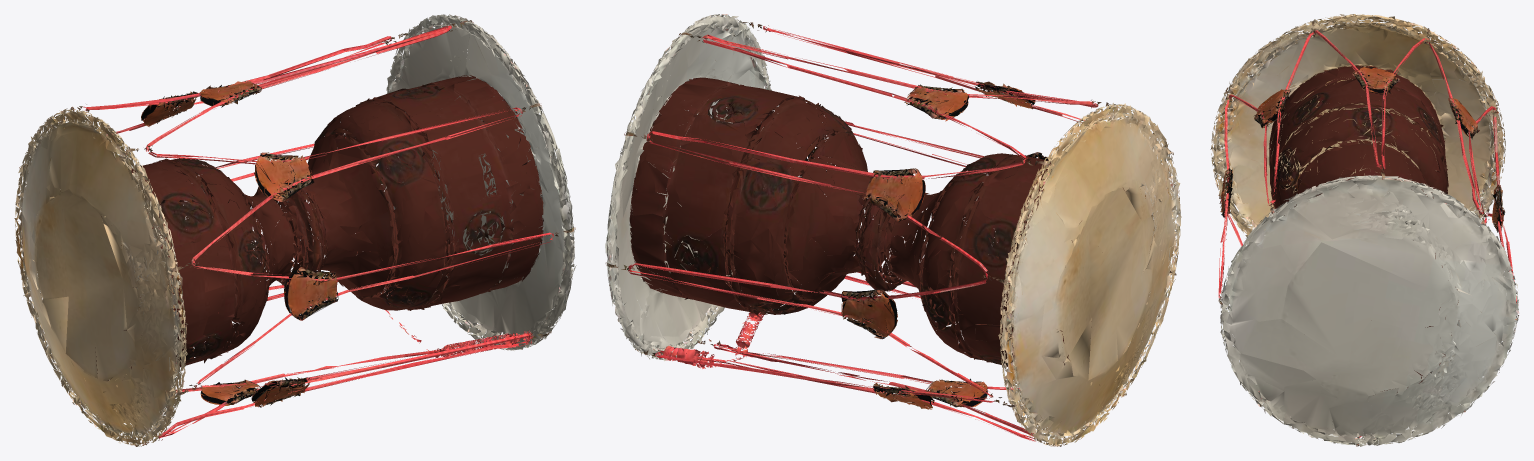
Rendered from janggu.glb.
3 renders of one model, left to right at view 1: azimuth 30°, elevation 25°; view 2: azimuth 150°, elevation 25°; view 3: azimuth 270°, elevation 25°, orthographic. The views are drawn at different scales.
Parts seen in each view (by area): view 1: Jongmyo Jerye_Royal Ancestral Ritual in the Jongmyo Shrine_A; view 2: Jongmyo Jerye_Royal Ancestral Ritual in the Jongmyo Shrine_A; view 3: Jongmyo Jerye_Royal Ancestral Ritual in the Jongmyo Shrine_A.
Part boxes in pixels (bbox=[...]): Jongmyo Jerye_Royal Ancestral Ritual in the Jongmyo Shrine_A: bbox=[14, 14, 576, 446]; Jongmyo Jerye_Royal Ancestral Ritual in the Jongmyo Shrine_A: bbox=[605, 14, 1181, 446]; Jongmyo Jerye_Royal Ancestral Ritual in the Jongmyo Shrine_A: bbox=[1210, 14, 1519, 446].
Size of the model in its own units: 685 by 498 by 508.
Materials: 3 (2 with a texture image).
